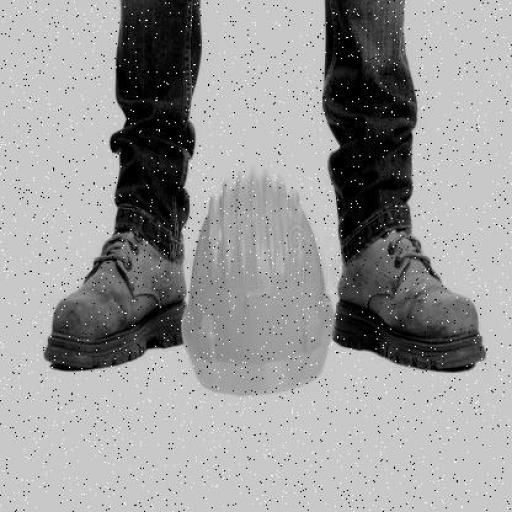safety_shoe: (336, 239, 491, 380), (52, 226, 187, 366)
